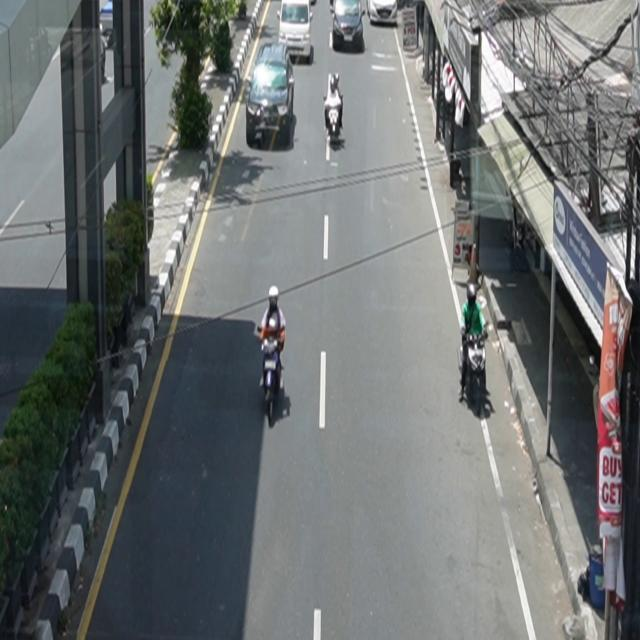car: (247, 41, 295, 149), (278, 1, 315, 64), (331, 1, 366, 51), (367, 1, 398, 26)
